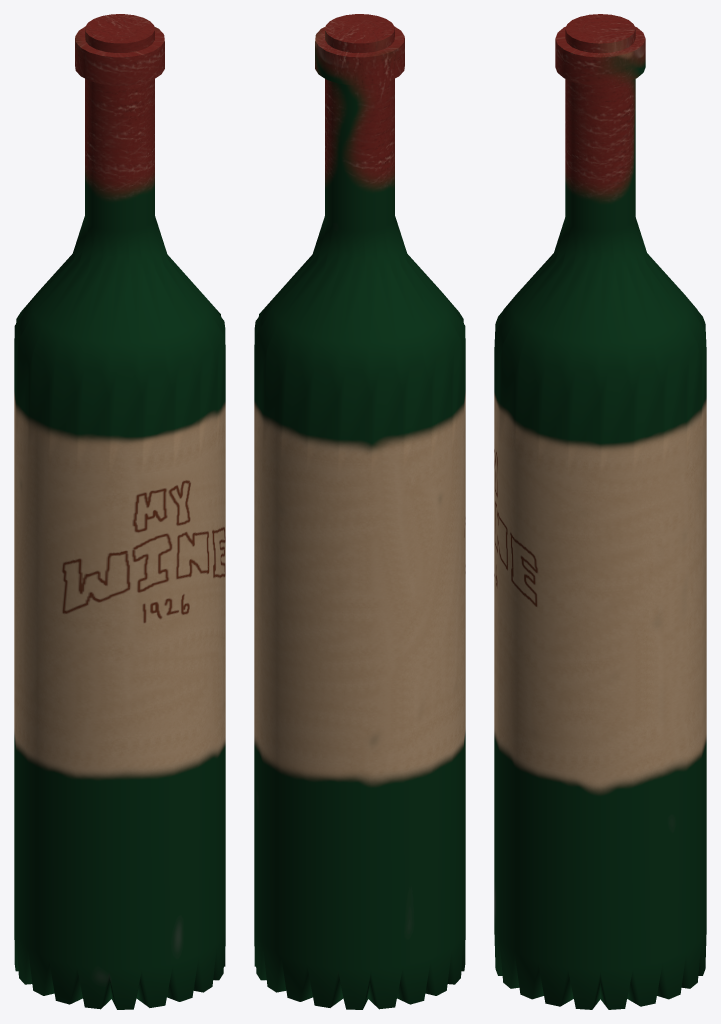
The model's file is my wine fr.fbx.
3 renders of one model, left to right at view 1: azimuth 30°, elevation 25°; view 2: azimuth 150°, elevation 25°; view 3: azimuth 270°, elevation 25°, orthographic.
Visible parts, largest first — view 1: pCylinder1; view 2: pCylinder1; view 3: pCylinder1.
Part boxes in pixels (bbox=[...]): pCylinder1: bbox=[14, 14, 225, 1009]; pCylinder1: bbox=[254, 14, 465, 1009]; pCylinder1: bbox=[494, 14, 706, 1009].
Size of the model in its own units: 2.15 by 10.46 by 2.15.
Materials: 1 (1 with a texture image).
